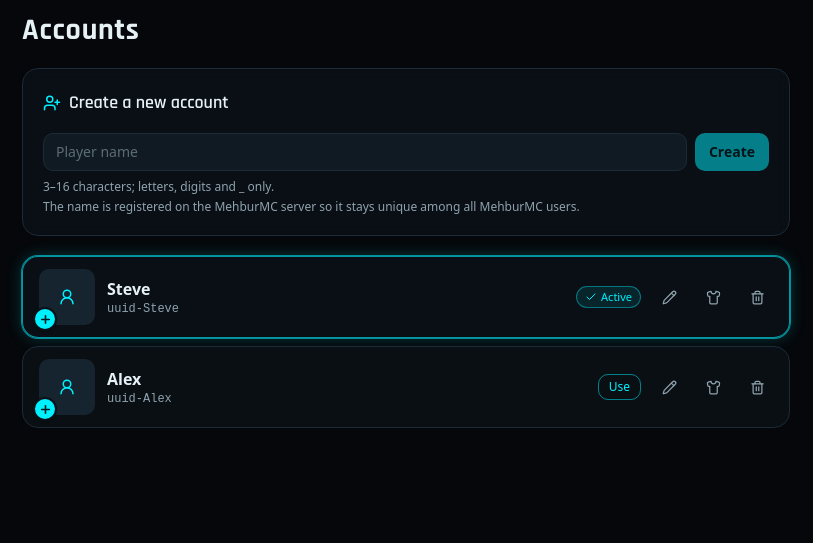
Test: AccountsPage › renames an account inline and shows a taken name as an error
This screenshot has width=813, height=543.
Expected: the heading "Create a new account" is shown, [43,91,228,114]
Click the button named "Rename" next to "Active": {"x": 669, "y": 297} [653,281,685,313]
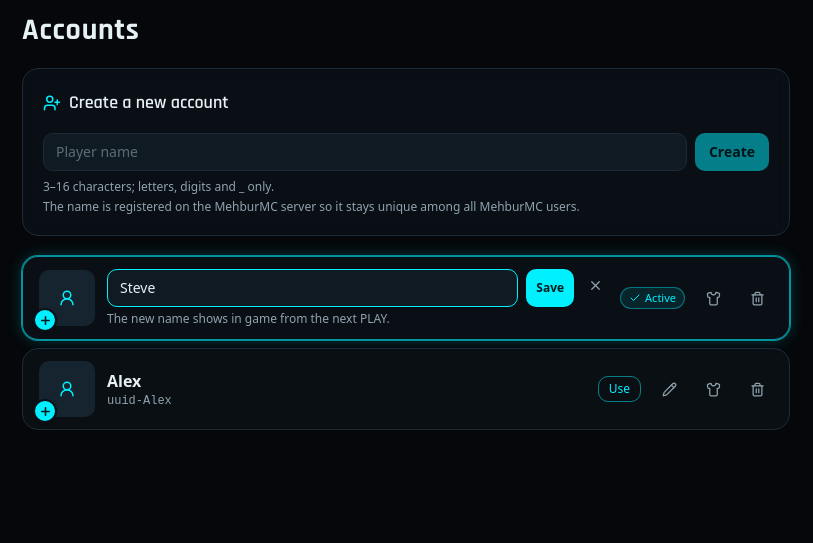
Result: the field named "Rename" holds "Steve"
Replace the text in the field named "Rename" with "x": {"x": 313, "y": 288} [107,269,518,307]
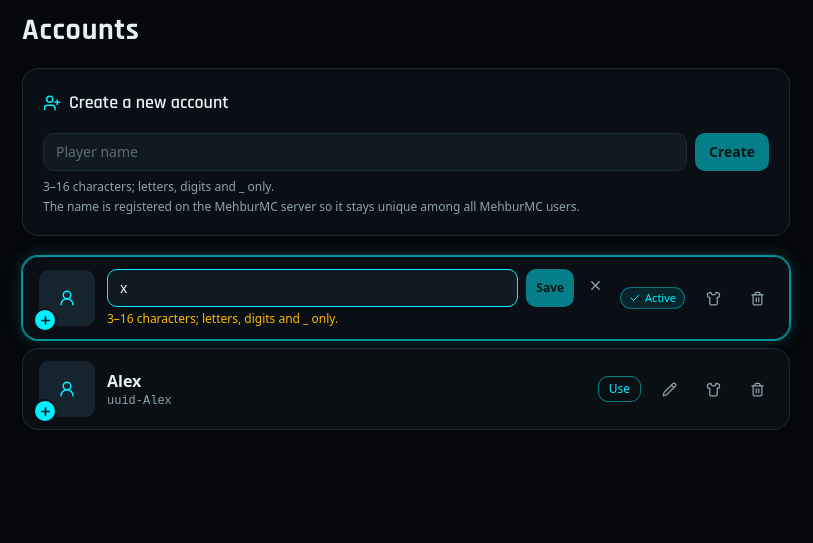
Result: the button "Save" is disabled at [526,269,574,307]
Replace the text in the field named "Rename" with "Alex": {"x": 313, "y": 288} [107,269,518,307]
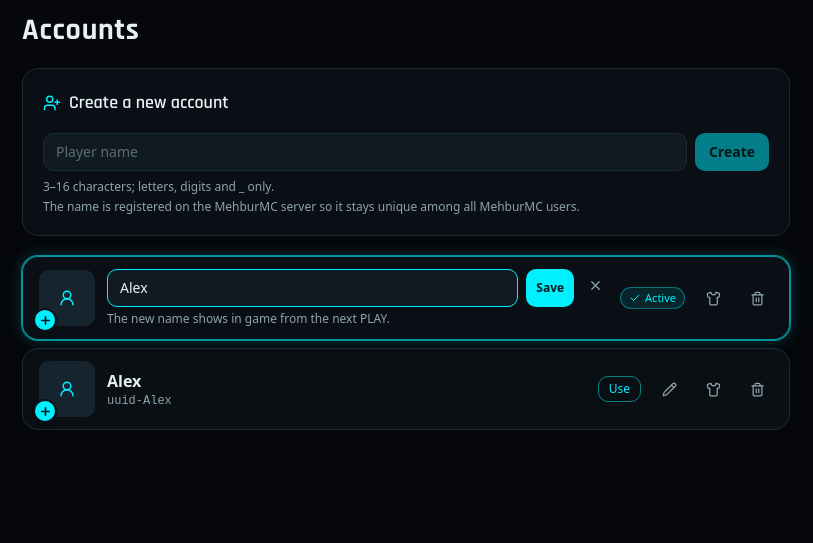
Click the button "Save": {"x": 550, "y": 288} [526,269,574,307]
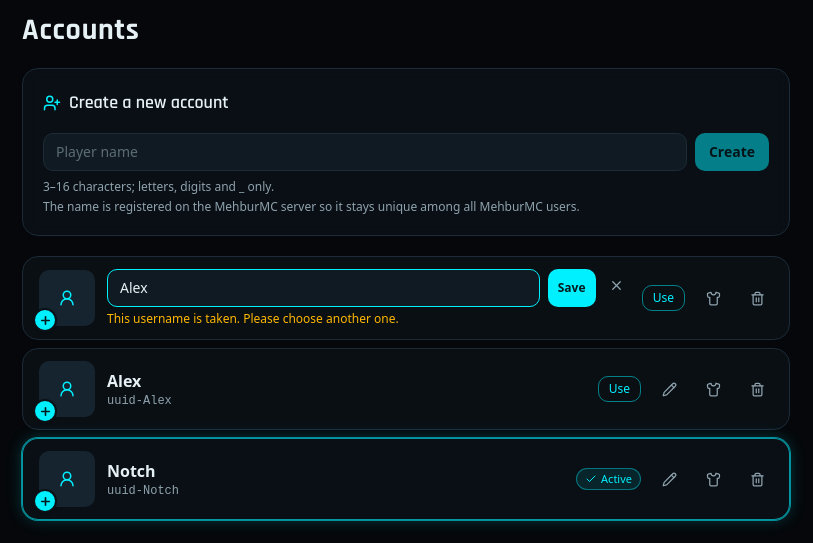
Result: the text "This username is taken. Please choose another one." is shown at [107,310,399,327]
Replace the text in the field named "Rename" with "Mehbur": {"x": 323, "y": 288} [107,269,540,307]
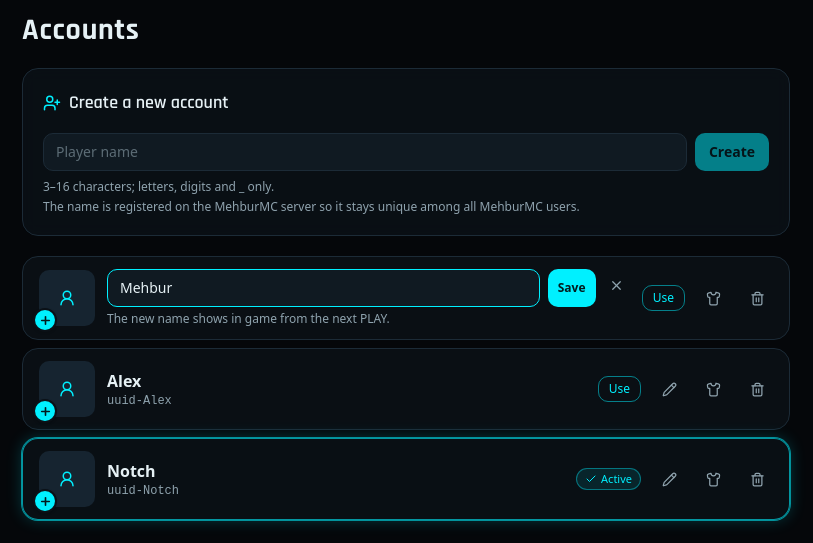
Result: the text "The new name shows in game from the next PLAY." is shown at [107,310,390,327]
Click the button "Save": {"x": 572, "y": 288} [548,269,596,307]
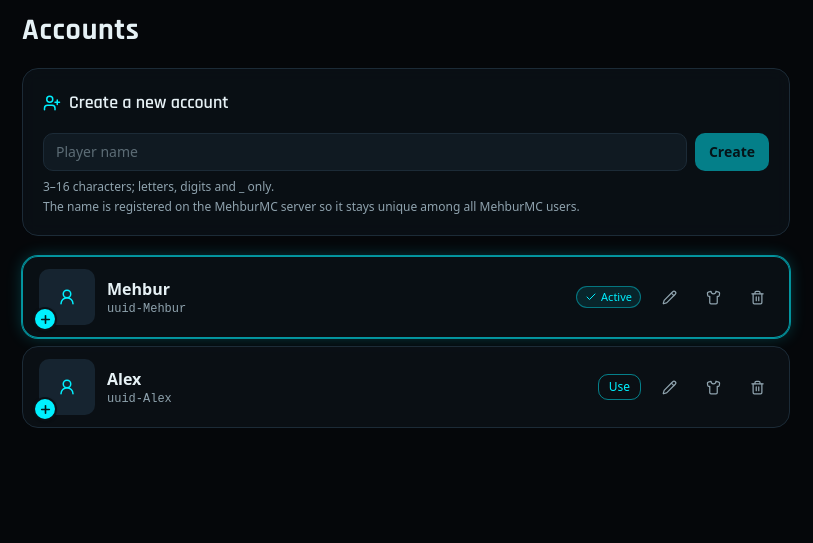
Result: the text "Mehbur" is shown at [107,278,170,300]
